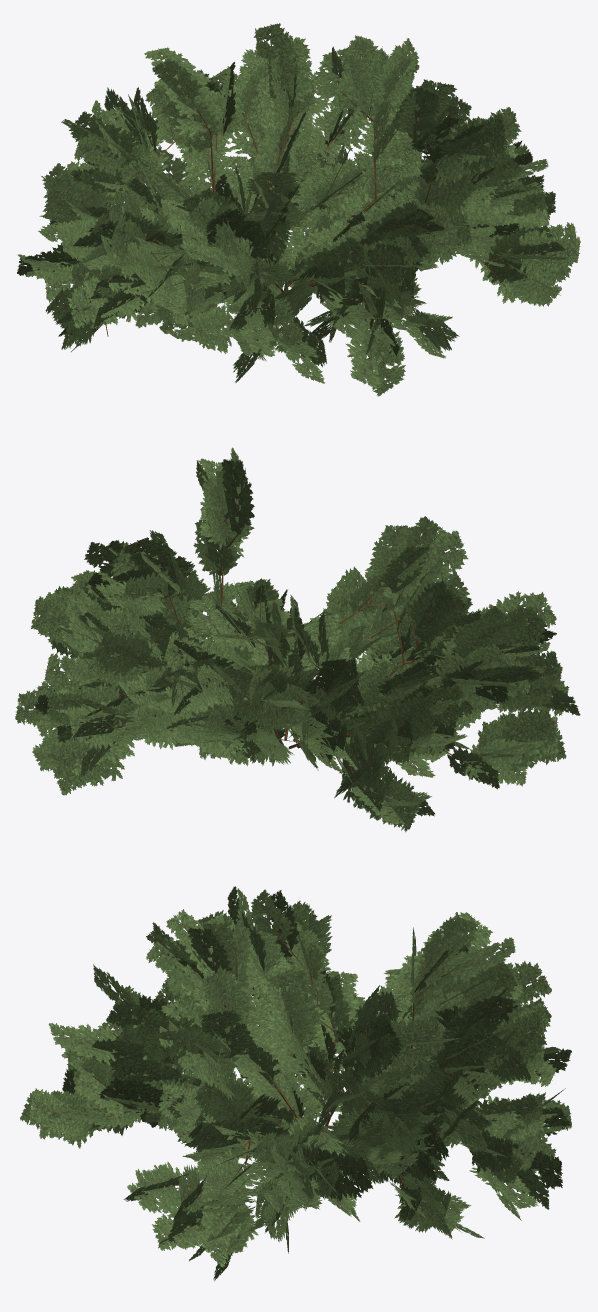
Rendered from juniper_low_v02_LOD1.fbx.
3 views of the same model, one above another, from view 1: azimuth 30°, elevation 25°; view 2: azimuth 150°, elevation 25°; view 3: azimuth 270°, elevation 25° (orthographic). The views are drawn at different scales.
Visible parts, largest first — view 1: juniper_low_v02_LOD1; view 2: juniper_low_v02_LOD1; view 3: juniper_low_v02_LOD1.
Part boxes in pixels (x1,y1,x2,y2): juniper_low_v02_LOD1: (17,23,580,396); juniper_low_v02_LOD1: (15,447,580,832); juniper_low_v02_LOD1: (20,886,571,1281).
Size of the model in its own units: 202 by 100 by 183.
2 materials, 2 textured.
